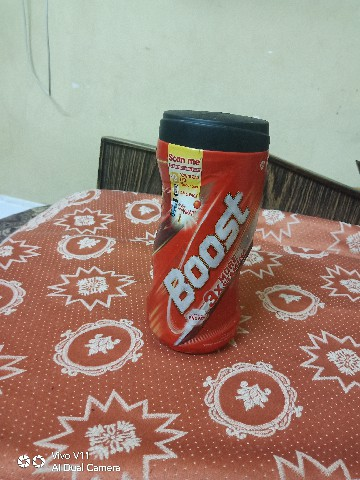boost big: (143, 88, 271, 383)
